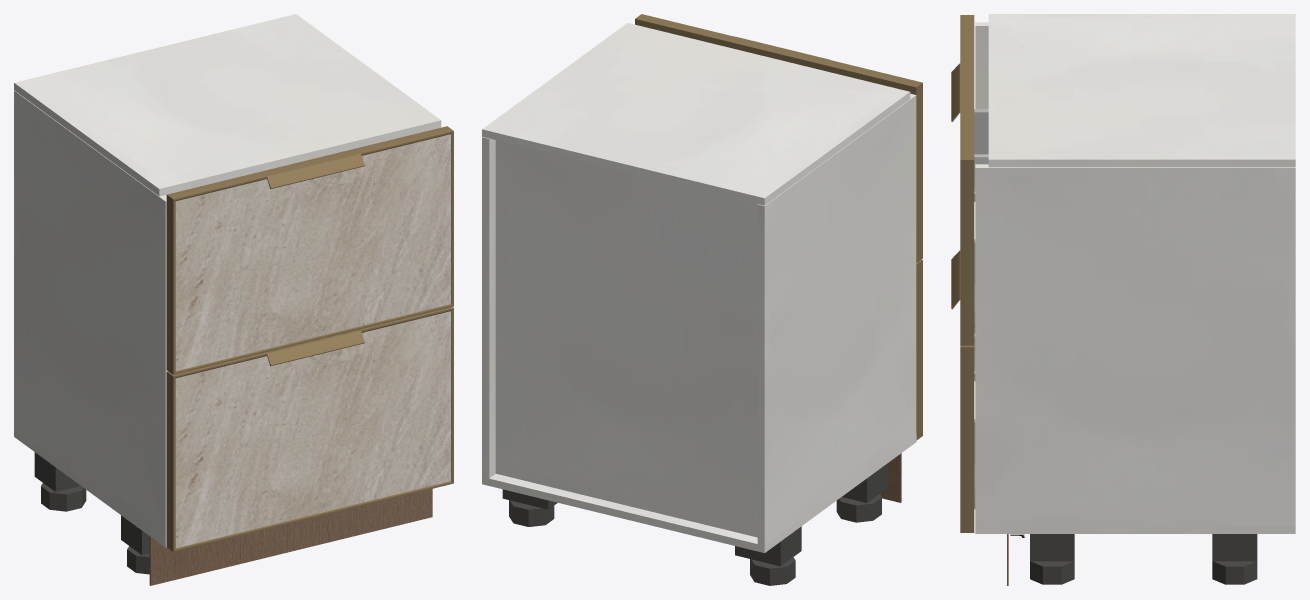
The model's file is BC-DW-TTS-ST-XXX-2HB-XXX-600-720-560-15.glb.
The picture shows the model from 3 angles, left to right: view 1: azimuth 30°, elevation 25°; view 2: azimuth 150°, elevation 25°; view 3: azimuth 270°, elevation 25°; orthographic projection. The views are drawn at different scales.
Visible parts, largest first — view 1: TP_node, Object_node_68, Object_node_70, TP_node_1, Object_node_72, ExtrSplGeo_node, Extrusion_node_4, Extrusion_node_11, ExtrSplGeo, TP, Extrusion_node_10, Extrusion_node_3 (+6 smaller); view 2: TP_node_6, TP_node, TP_node_1, TP, TP_node_0, Extrusion_node_11, ExtrSplGeo_node, Extrusion_node_4, Extrusion_node_7, Extrusion_node_8, Plate, Foot (+4 smaller); view 3: TP_node_0, TP_node_1, Extrusion_node_2, Extrusion_node_9, TP, Plate_node, Plate_node_1, TP_node, ExtrSplGeo_node, Foot_node, Foot_node_1, Extrusion_node_7 (+3 smaller).
Boxes of the visible parts, x1,y1,x2,y2 form: TP_node: [14, 90, 167, 540]; Object_node_68: [175, 311, 450, 547]; Object_node_70: [175, 134, 450, 370]; TP_node_1: [14, 14, 441, 196]; Object_node_72: [149, 489, 432, 585]; ExtrSplGeo_node: [260, 149, 364, 189]; Extrusion_node_4: [166, 372, 175, 551]; Extrusion_node_11: [166, 195, 175, 374]; ExtrSplGeo: [265, 329, 364, 366]; TP: [14, 429, 166, 547]; Extrusion_node_10: [173, 304, 453, 374]; Extrusion_node_3: [173, 481, 453, 551]; TP_node_6: [495, 140, 757, 537]; TP_node: [757, 93, 916, 545]; TP_node_1: [482, 23, 910, 205]; TP: [482, 435, 916, 553]; TP_node_0: [482, 137, 495, 478]; Extrusion_node_11: [910, 83, 922, 262]; ExtrSplGeo_node: [728, 36, 829, 70]; Extrusion_node_4: [916, 260, 922, 439]; Extrusion_node_7: [635, 14, 734, 47]; Extrusion_node_8: [822, 60, 922, 91]; Plate: [735, 526, 801, 566]; Foot: [750, 557, 795, 585]; TP_node_0: [975, 164, 1295, 526]; TP_node_1: [988, 14, 1295, 167]; Extrusion_node_2: [960, 347, 974, 532]; Extrusion_node_9: [960, 160, 974, 345]; TP: [975, 526, 1295, 533]; Plate_node: [1212, 534, 1257, 561]; Plate_node_1: [1030, 534, 1074, 561]; TP_node: [975, 22, 988, 108]; ExtrSplGeo_node: [951, 63, 974, 121]; Foot_node: [1212, 561, 1257, 584]; Foot_node_1: [1030, 561, 1074, 584]; Extrusion_node_7: [960, 111, 974, 159].
Size of what is drawn, in the model's own units: 0.6 by 0.82 by 0.6.
7 materials, 3 textured.
